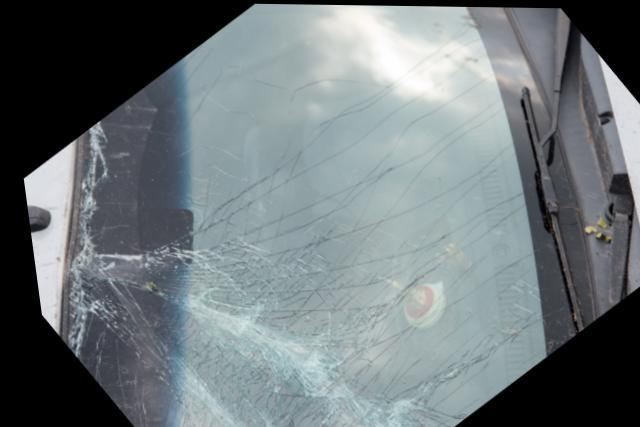glass shatter: (54, 3, 587, 427)
